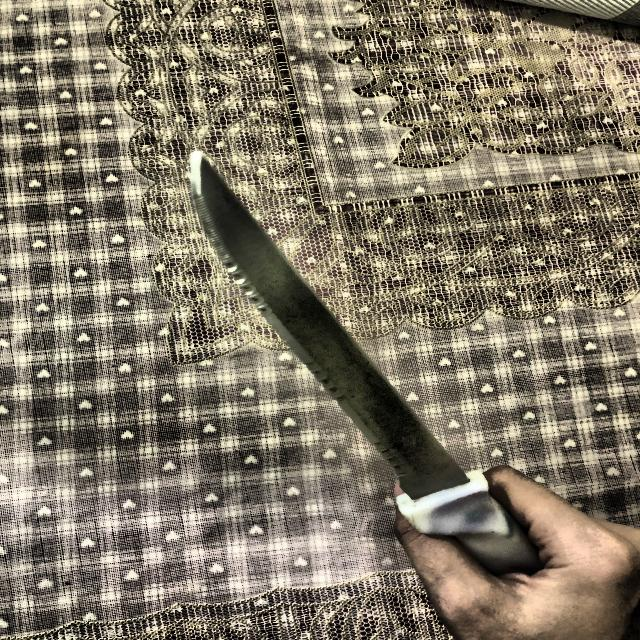knife: (189, 152, 541, 576)
